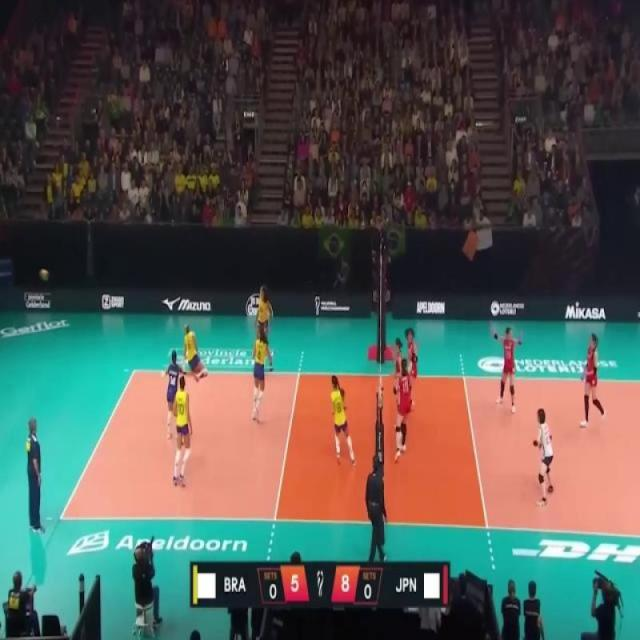volleyball: (39, 268, 50, 282)
